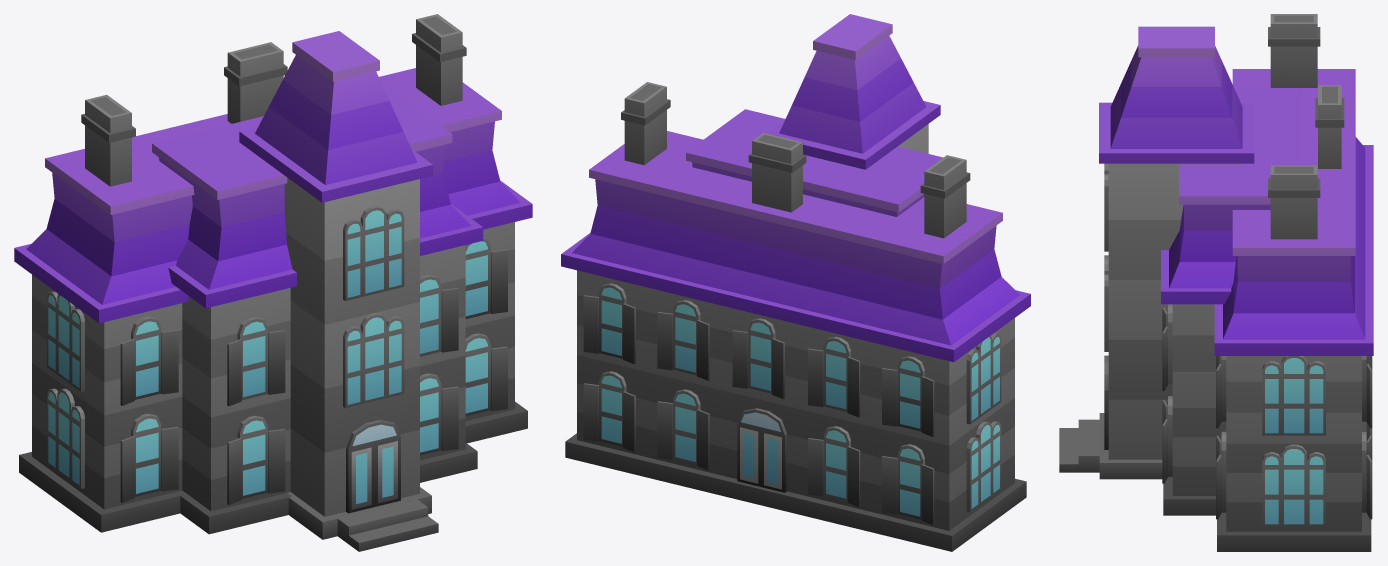
Rendered from gothic house.fbx.
3 renders of one model, left to right at view 1: azimuth 30°, elevation 25°; view 2: azimuth 150°, elevation 25°; view 3: azimuth 270°, elevation 25°, orthographic. The views are drawn at different scales.
Visible parts, largest first — view 1: gothic_house; view 2: gothic_house; view 3: gothic_house.
Part boxes in pixels (x1=…): gothic_house: x1=14, y1=14, x2=532, y2=551; gothic_house: x1=561, y1=14, x2=1030, y2=551; gothic_house: x1=1059, y1=14, x2=1373, y2=551.
Size of the model in its own units: 1189 by 1166 by 796.
Materials: 1 (1 with a texture image).
